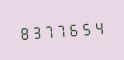eight: (17, 23, 29, 42)
five: (82, 18, 94, 37)
four: (95, 17, 107, 36)
seven: (43, 21, 55, 40), (56, 20, 68, 39)
six: (69, 19, 81, 38)
three: (30, 22, 42, 41)
